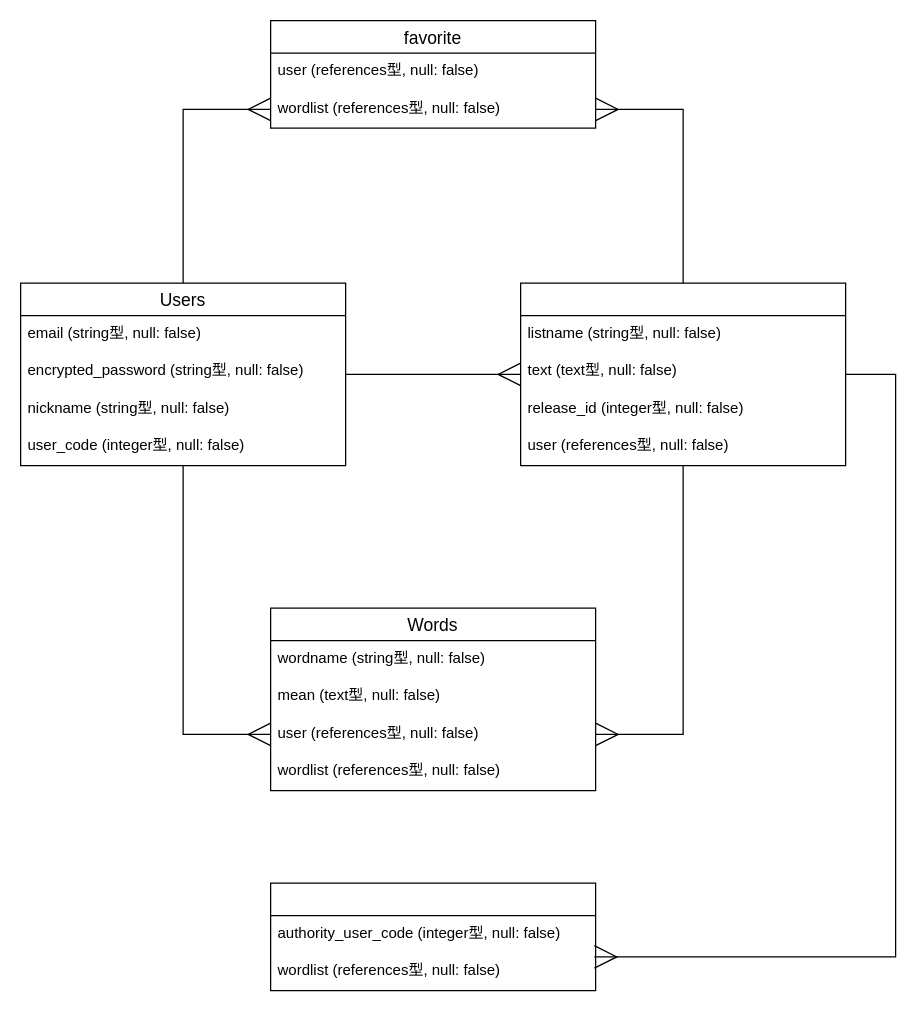
This 916x1011 diagram has some shape labels left out. The box of each missing label's shape, as (x1, y1, x2, y2) in pixels:
Authorites: (269, 882, 596, 991)
Wordbooks: (519, 282, 846, 466)
